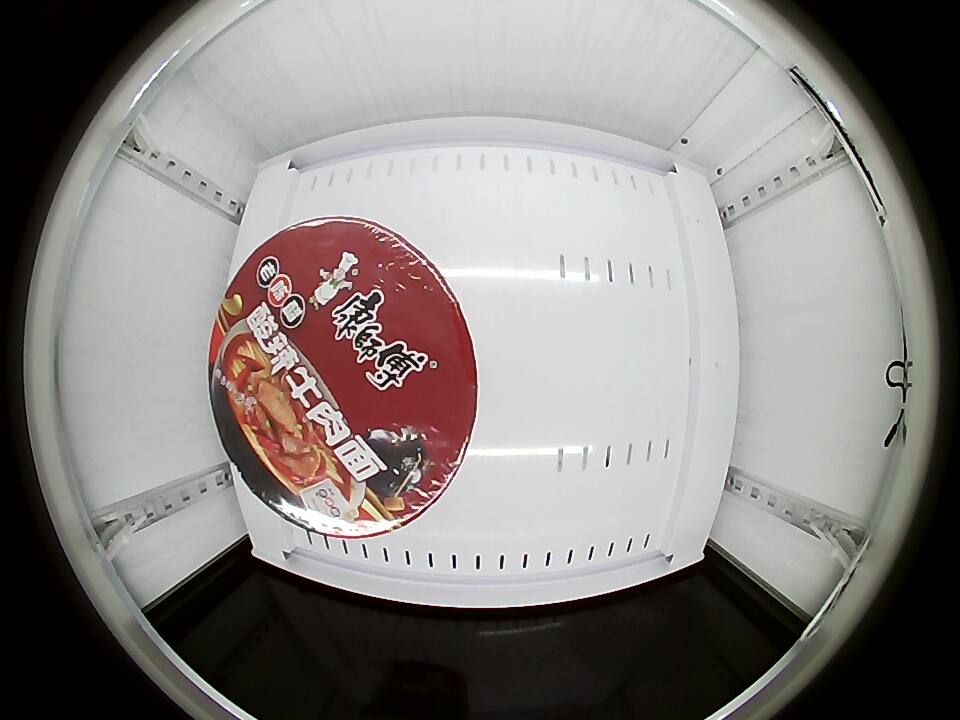suanlaniurou: (210, 217, 478, 538)
